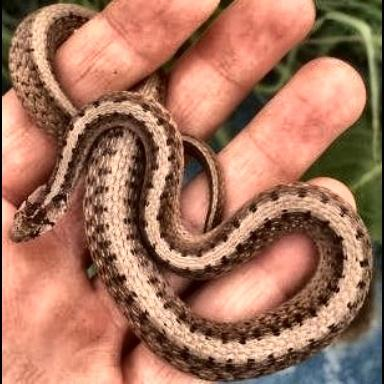snake: (9, 0, 372, 381)
